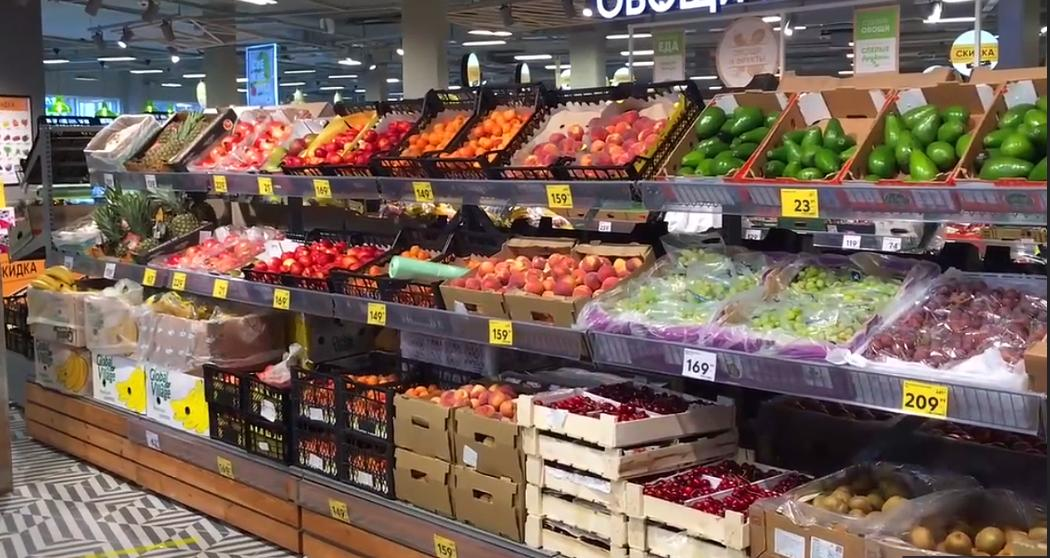grapes: (708, 252, 904, 355), (579, 244, 775, 346), (858, 267, 1050, 370)
pineapple: (98, 194, 201, 252), (136, 117, 206, 172)
pomegranate: (201, 121, 287, 175)
